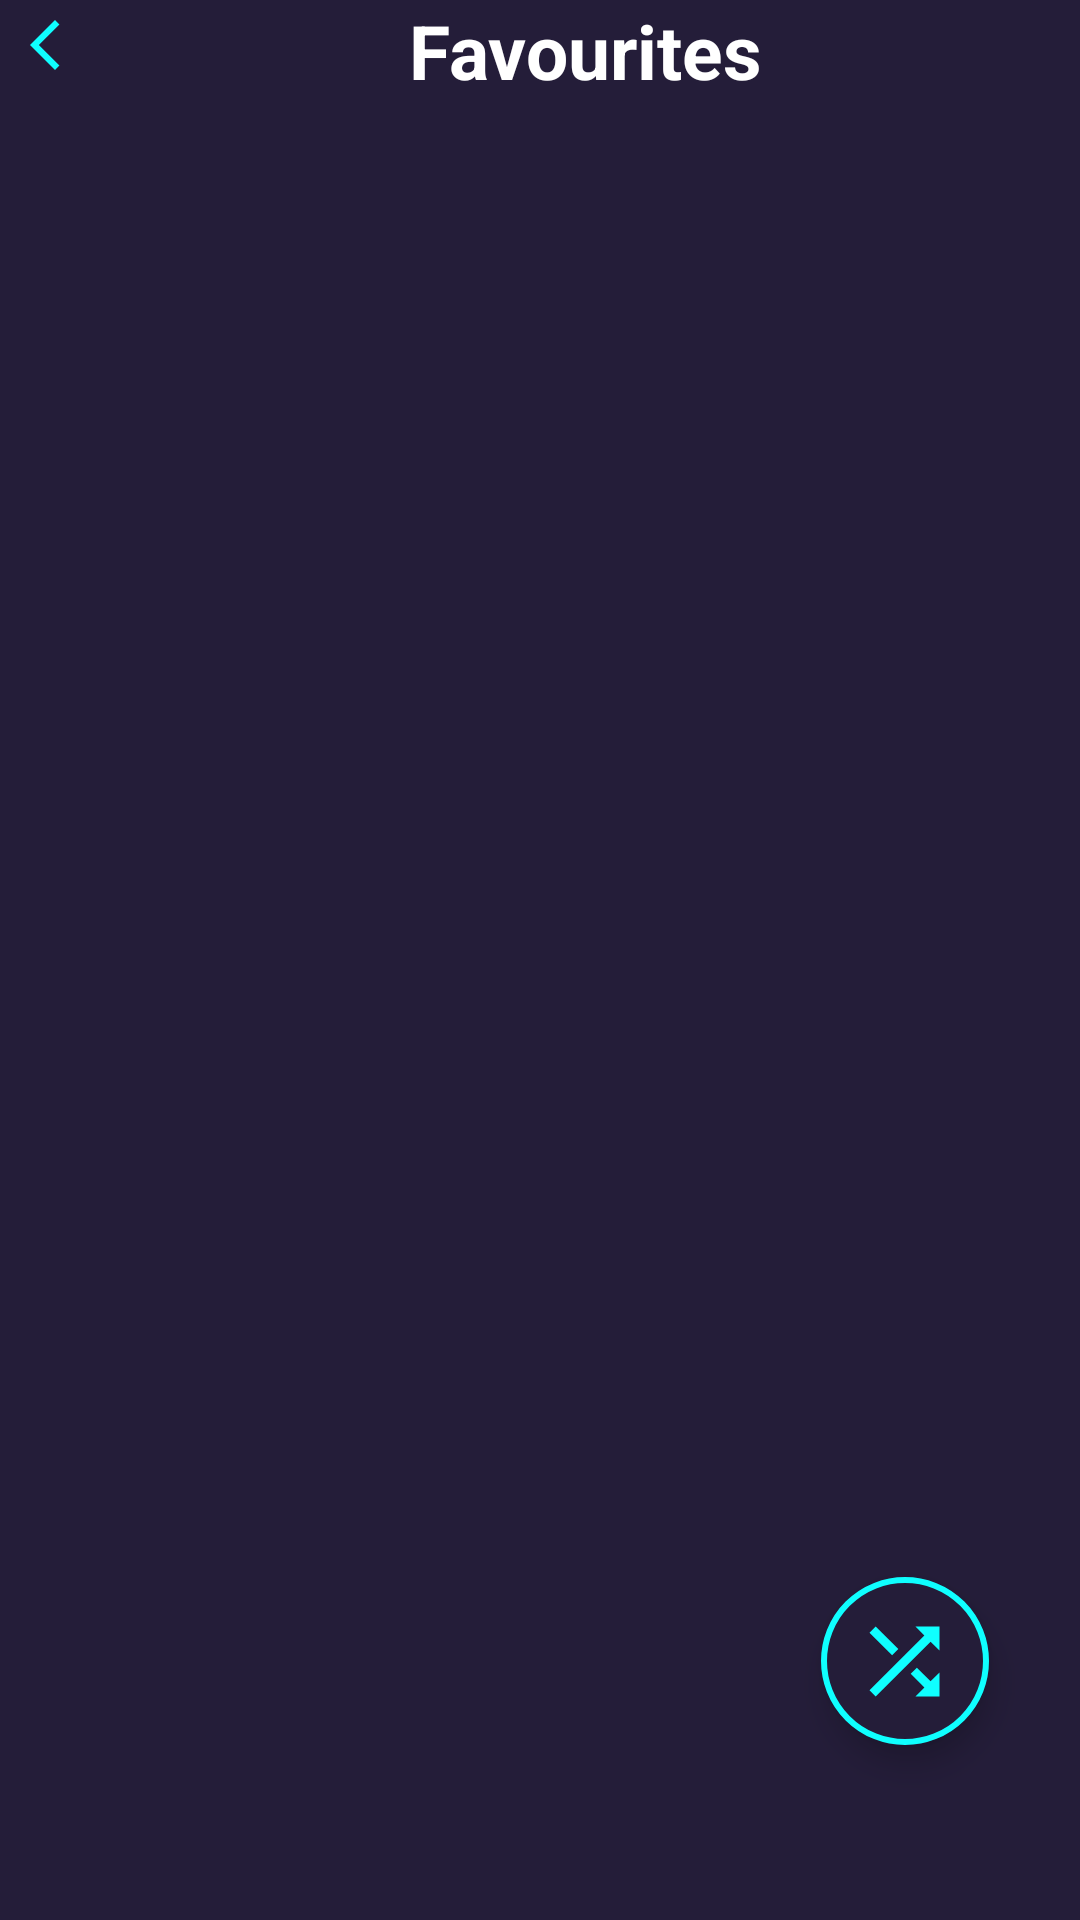

Named icons in this screenshot (1080 x 1920) and their bounding boxes, (x1, y1, x2, y2):
Back: (30, 20, 60, 70)
shuffle: (821, 1577, 989, 1745)
